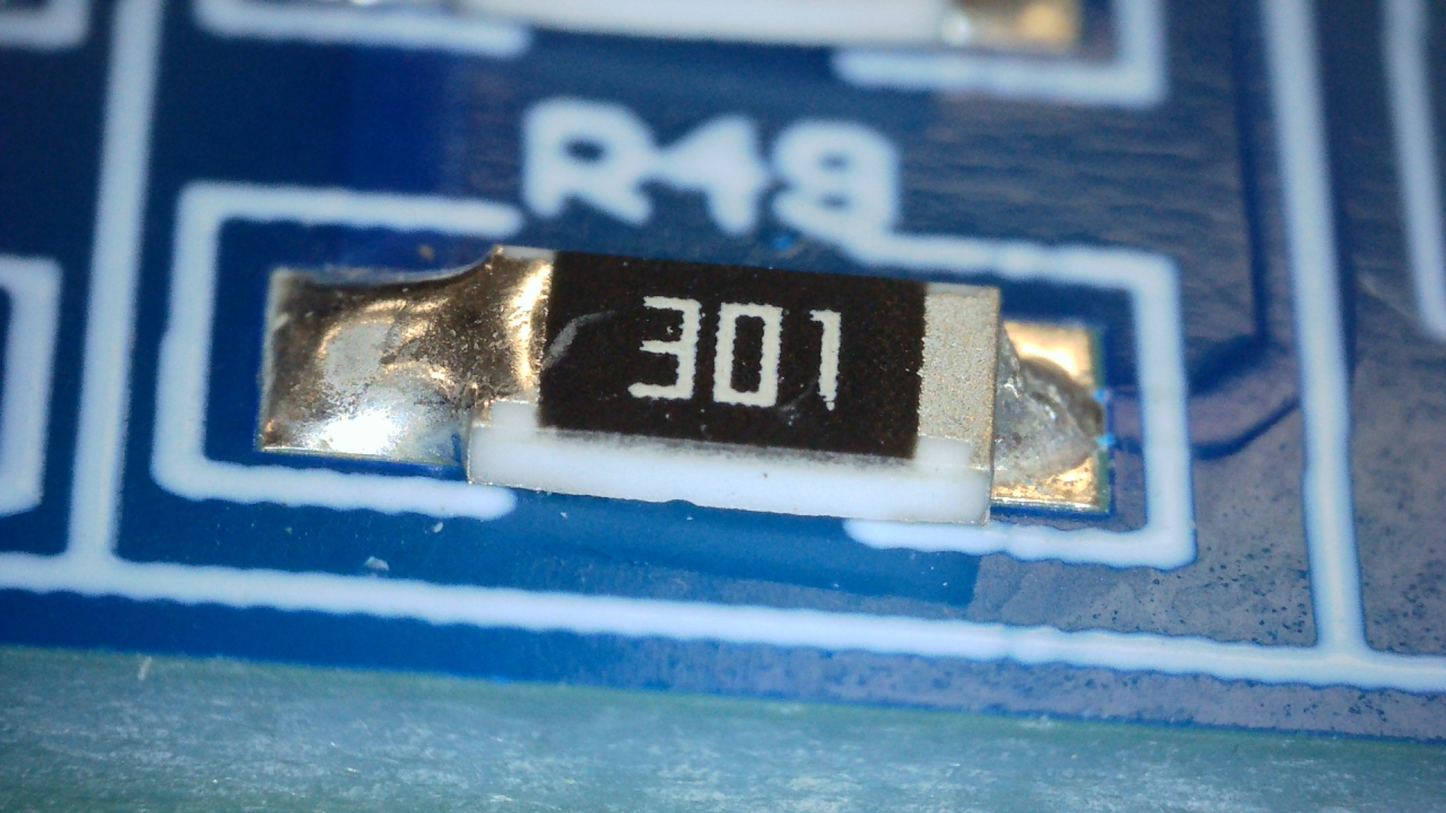NG: (927, 284, 1105, 489)
OK: (263, 244, 554, 459)
